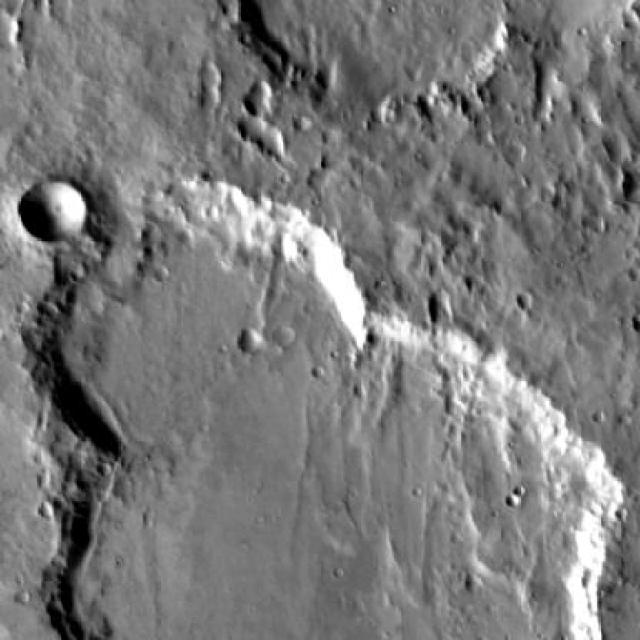crater: (62, 294, 616, 640), (37, 171, 368, 478), (24, 173, 91, 235), (248, 75, 280, 102), (603, 128, 634, 155), (262, 121, 290, 147), (242, 321, 270, 345), (0, 7, 20, 36), (244, 110, 268, 132), (464, 88, 488, 110), (201, 58, 225, 80), (430, 288, 453, 310), (202, 83, 222, 102), (609, 165, 625, 186), (295, 110, 313, 127), (502, 302, 518, 318)
